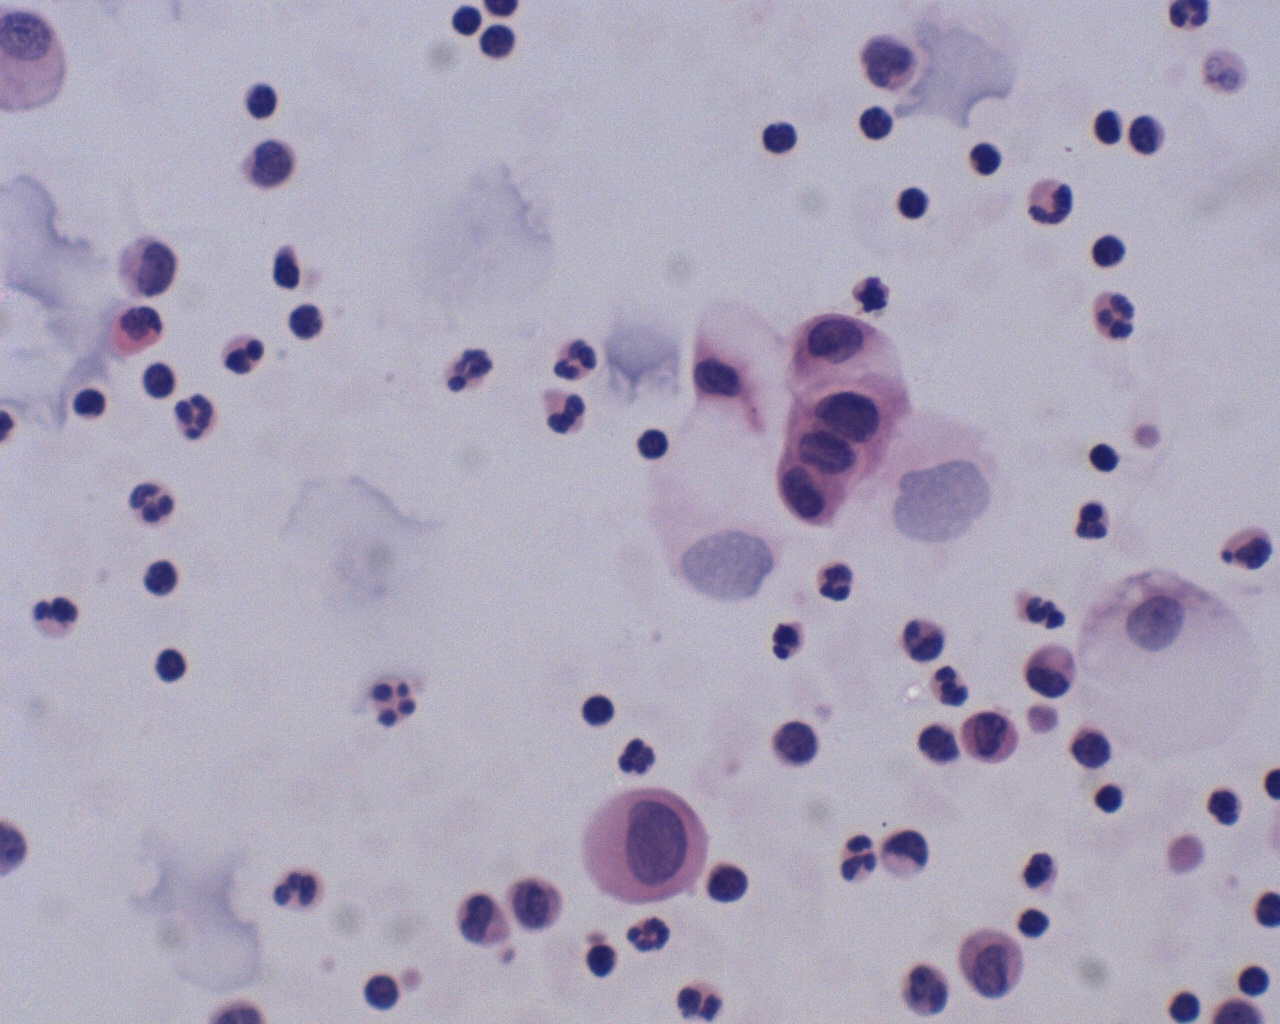ab: (583, 779, 717, 905), (793, 305, 880, 381), (953, 921, 1024, 1006), (961, 703, 1023, 773)
histo: (1083, 556, 1275, 758)
lymph: (362, 965, 404, 1017), (1085, 227, 1132, 272), (580, 688, 624, 736), (139, 555, 188, 598), (238, 80, 288, 122), (66, 382, 111, 427), (149, 645, 195, 689), (885, 181, 933, 222), (1093, 779, 1135, 819)
neutro: (267, 862, 336, 922), (122, 480, 193, 533), (167, 385, 227, 444), (1020, 170, 1080, 229), (363, 669, 419, 731), (26, 583, 86, 642), (1088, 286, 1145, 343), (218, 329, 274, 382), (834, 827, 881, 887), (626, 912, 684, 958), (549, 335, 603, 385), (545, 383, 590, 439), (1068, 495, 1116, 545), (811, 555, 860, 603), (928, 666, 978, 709), (766, 614, 810, 665)
